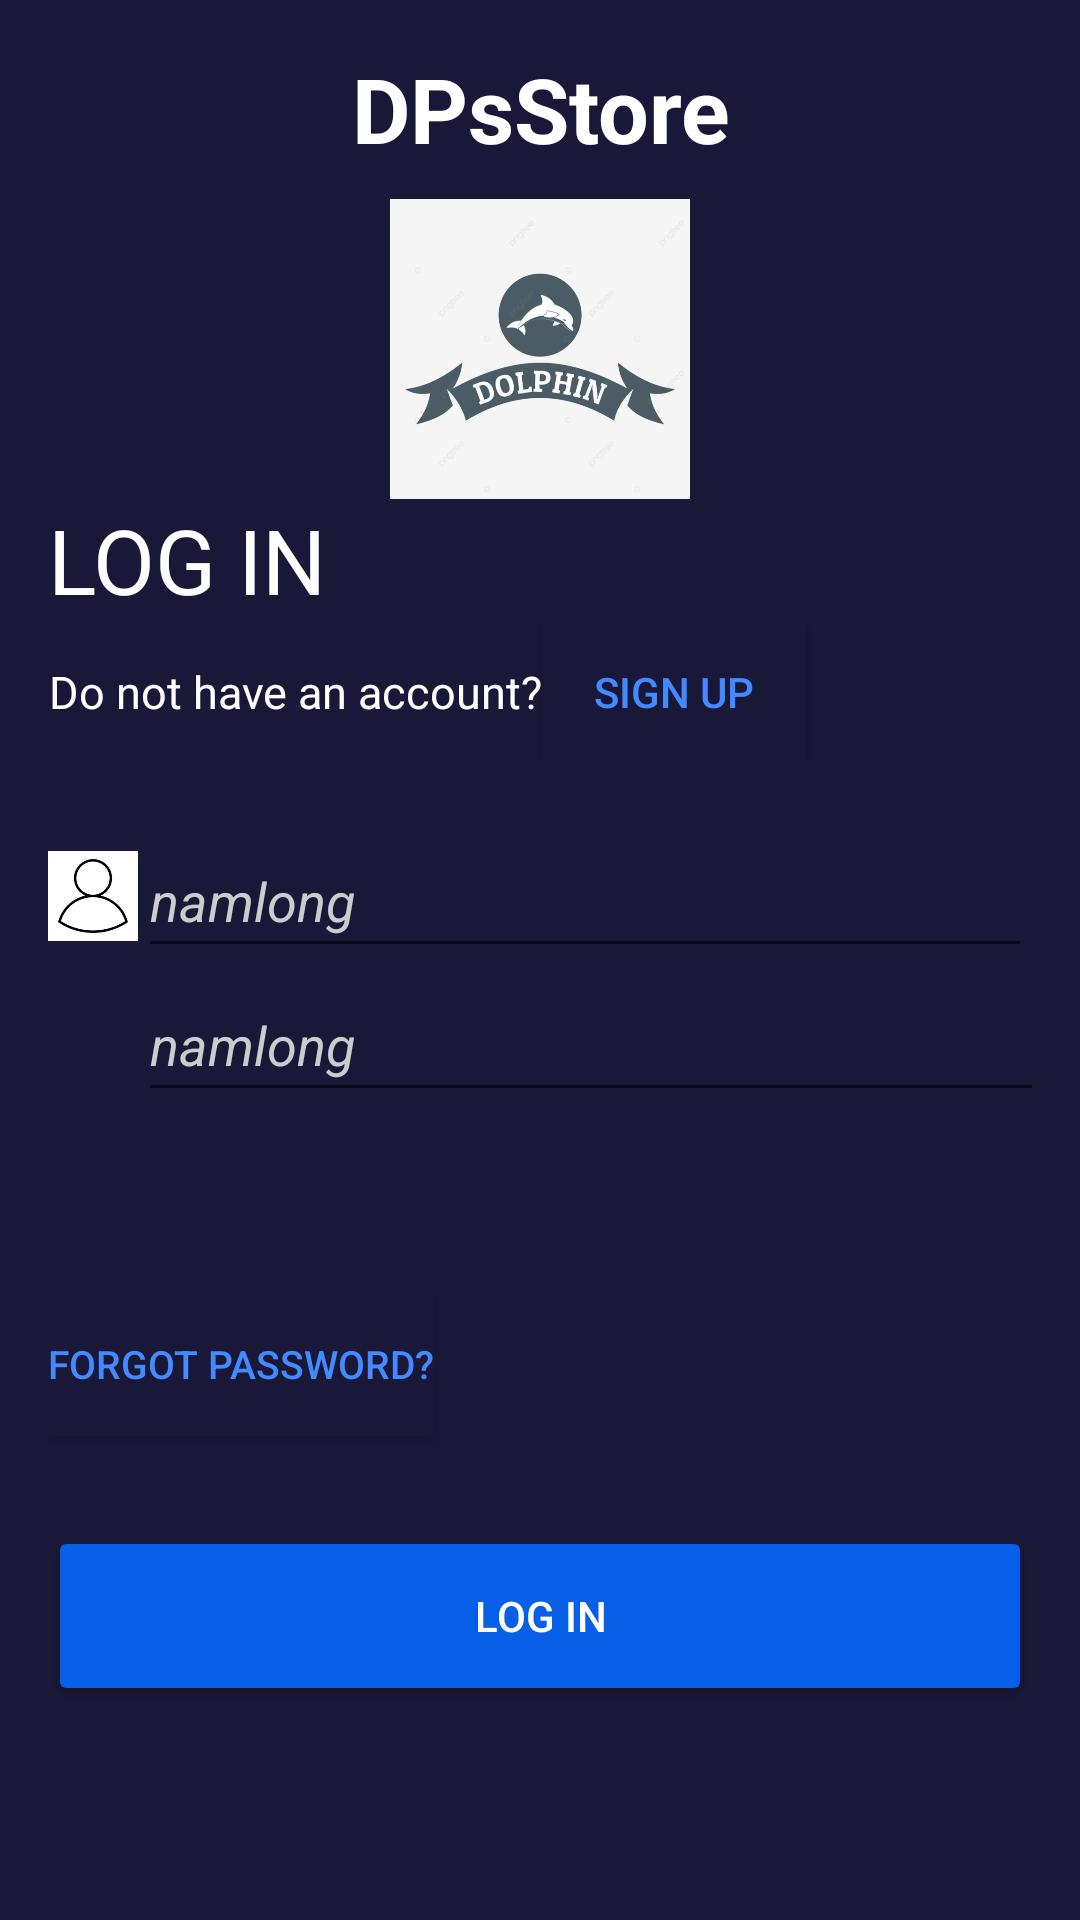

Icon click points for this 1080*1920 phone screenshot, format point (x, y):
iconaccount: point (93, 896)
